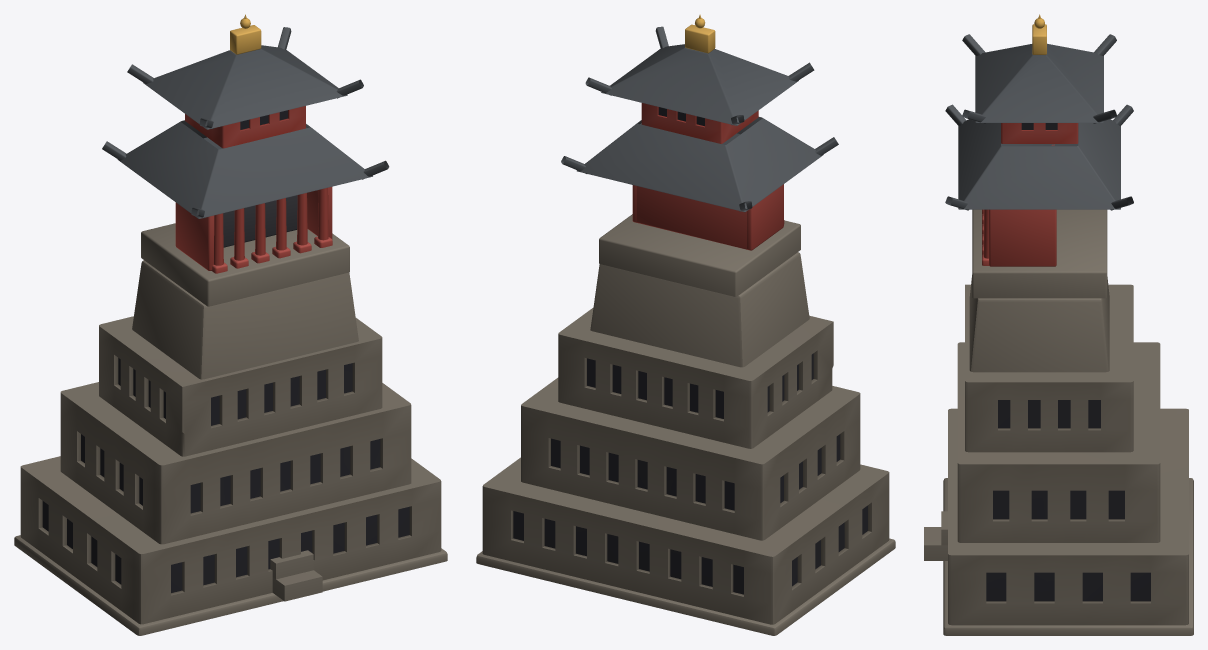
File: landmark_chungking_solo.glb
3 renders of one model, left to right at view 1: azimuth 30°, elevation 25°; view 2: azimuth 150°, elevation 25°; view 3: azimuth 270°, elevation 25°, orthographic. The views are drawn at different scales.
Parts seen in each view (by area): view 1: Citadel_Cliff, Pavilion_Roofs, Pavilion_Hall, Citadel_Stairs; view 2: Citadel_Cliff, Pavilion_Roofs, Pavilion_Hall; view 3: Citadel_Cliff, Pavilion_Roofs, Pavilion_Hall, Citadel_Stairs.
Boxes of the visible parts, box(x1,y1,x2,y2) form: Citadel_Cliff: box(14, 260, 447, 635); Pavilion_Roofs: box(102, 14, 389, 218); Pavilion_Hall: box(141, 106, 349, 306); Citadel_Stairs: box(270, 550, 322, 601); Citadel_Cliff: box(476, 252, 895, 635); Pavilion_Roofs: box(561, 14, 838, 212); Pavilion_Hall: box(599, 103, 800, 296); Citadel_Cliff: box(943, 275, 1193, 635); Pavilion_Roofs: box(945, 14, 1133, 210); Pavilion_Hall: box(972, 123, 1107, 298); Citadel_Stairs: box(924, 511, 947, 560).
Bounding box in the file's own units: 0.74 × 1.25 × 0.56.
